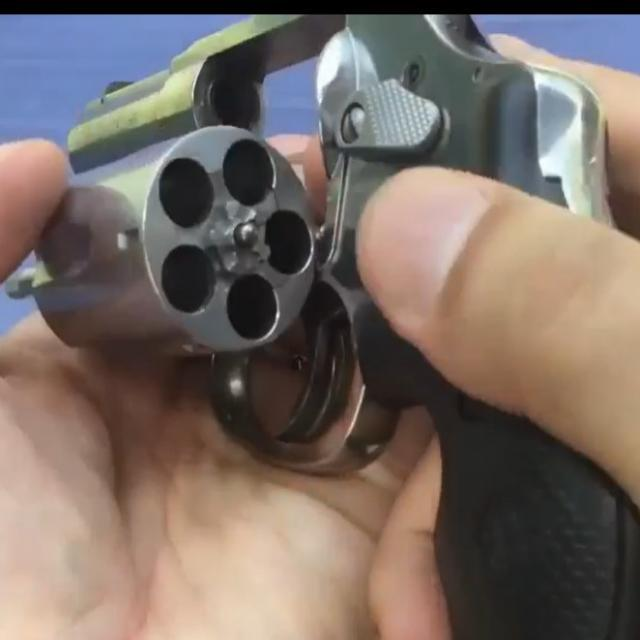revolver: (0, 12, 640, 638)
